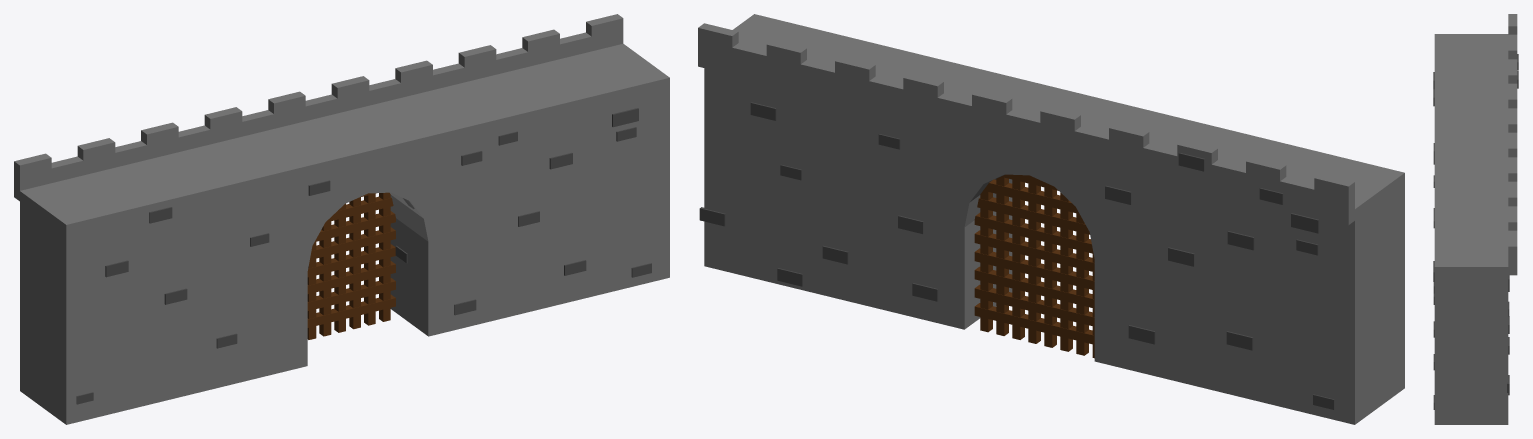
The model's file is LargeCastle_Gate.fbx.
The picture shows the model from 3 angles, left to right: view 1: azimuth 30°, elevation 25°; view 2: azimuth 150°, elevation 25°; view 3: azimuth 270°, elevation 25°; orthographic projection. The views are drawn at different scales.
Visible parts, largest first — view 1: Cube.001; view 2: Cube.001; view 3: Cube.001.
Part boxes in pixels (box(x1,y1,x2,y2)): Cube.001: box(14, 14, 669, 424); Cube.001: box(698, 14, 1404, 424); Cube.001: box(1433, 14, 1518, 424).
Size of the model in its own units: 3017 by 1101 by 465.
